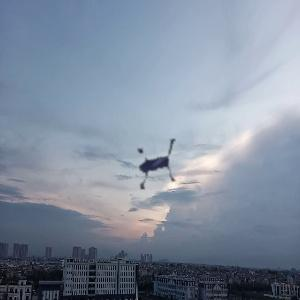drone: (110, 115, 196, 201)
